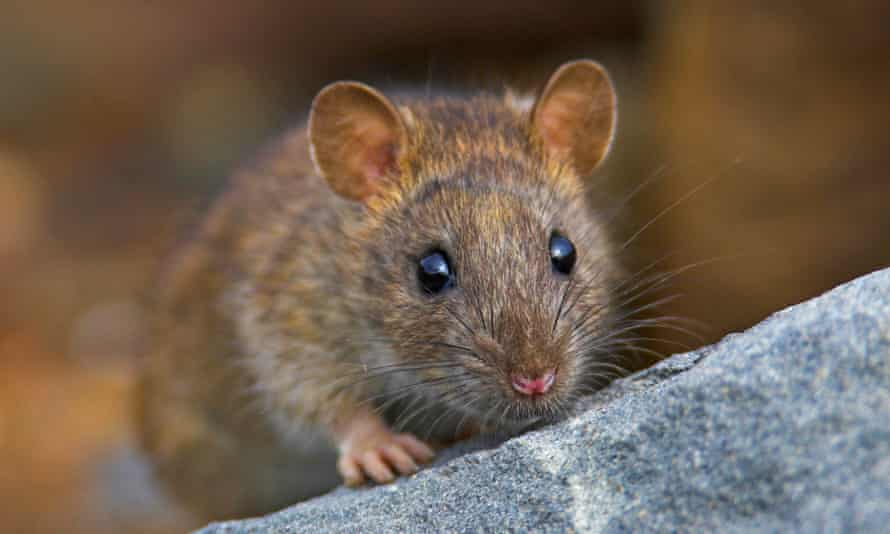rat: (246, 36, 670, 493)
